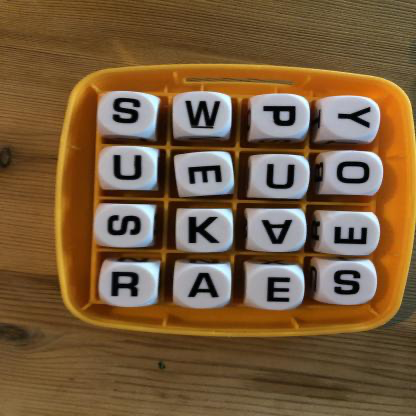a: (248, 209, 306, 252), (174, 266, 232, 309)
e: (246, 264, 305, 311), (322, 211, 380, 256), (177, 152, 236, 194)
k: (175, 209, 234, 252)
o: (326, 153, 383, 195)
p: (252, 96, 311, 138)
r: (101, 264, 159, 306)
s: (97, 204, 155, 248), (319, 261, 377, 305), (101, 93, 157, 136)
u: (99, 147, 159, 191), (251, 155, 311, 199)
w: (173, 93, 233, 136)
y: (323, 96, 382, 139)
